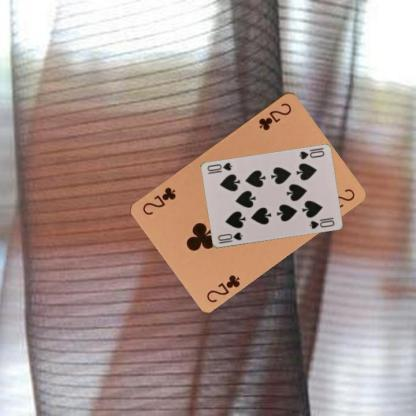10s: (215, 230, 244, 245), (296, 148, 326, 160)
2c: (255, 99, 293, 132), (204, 271, 242, 304)
